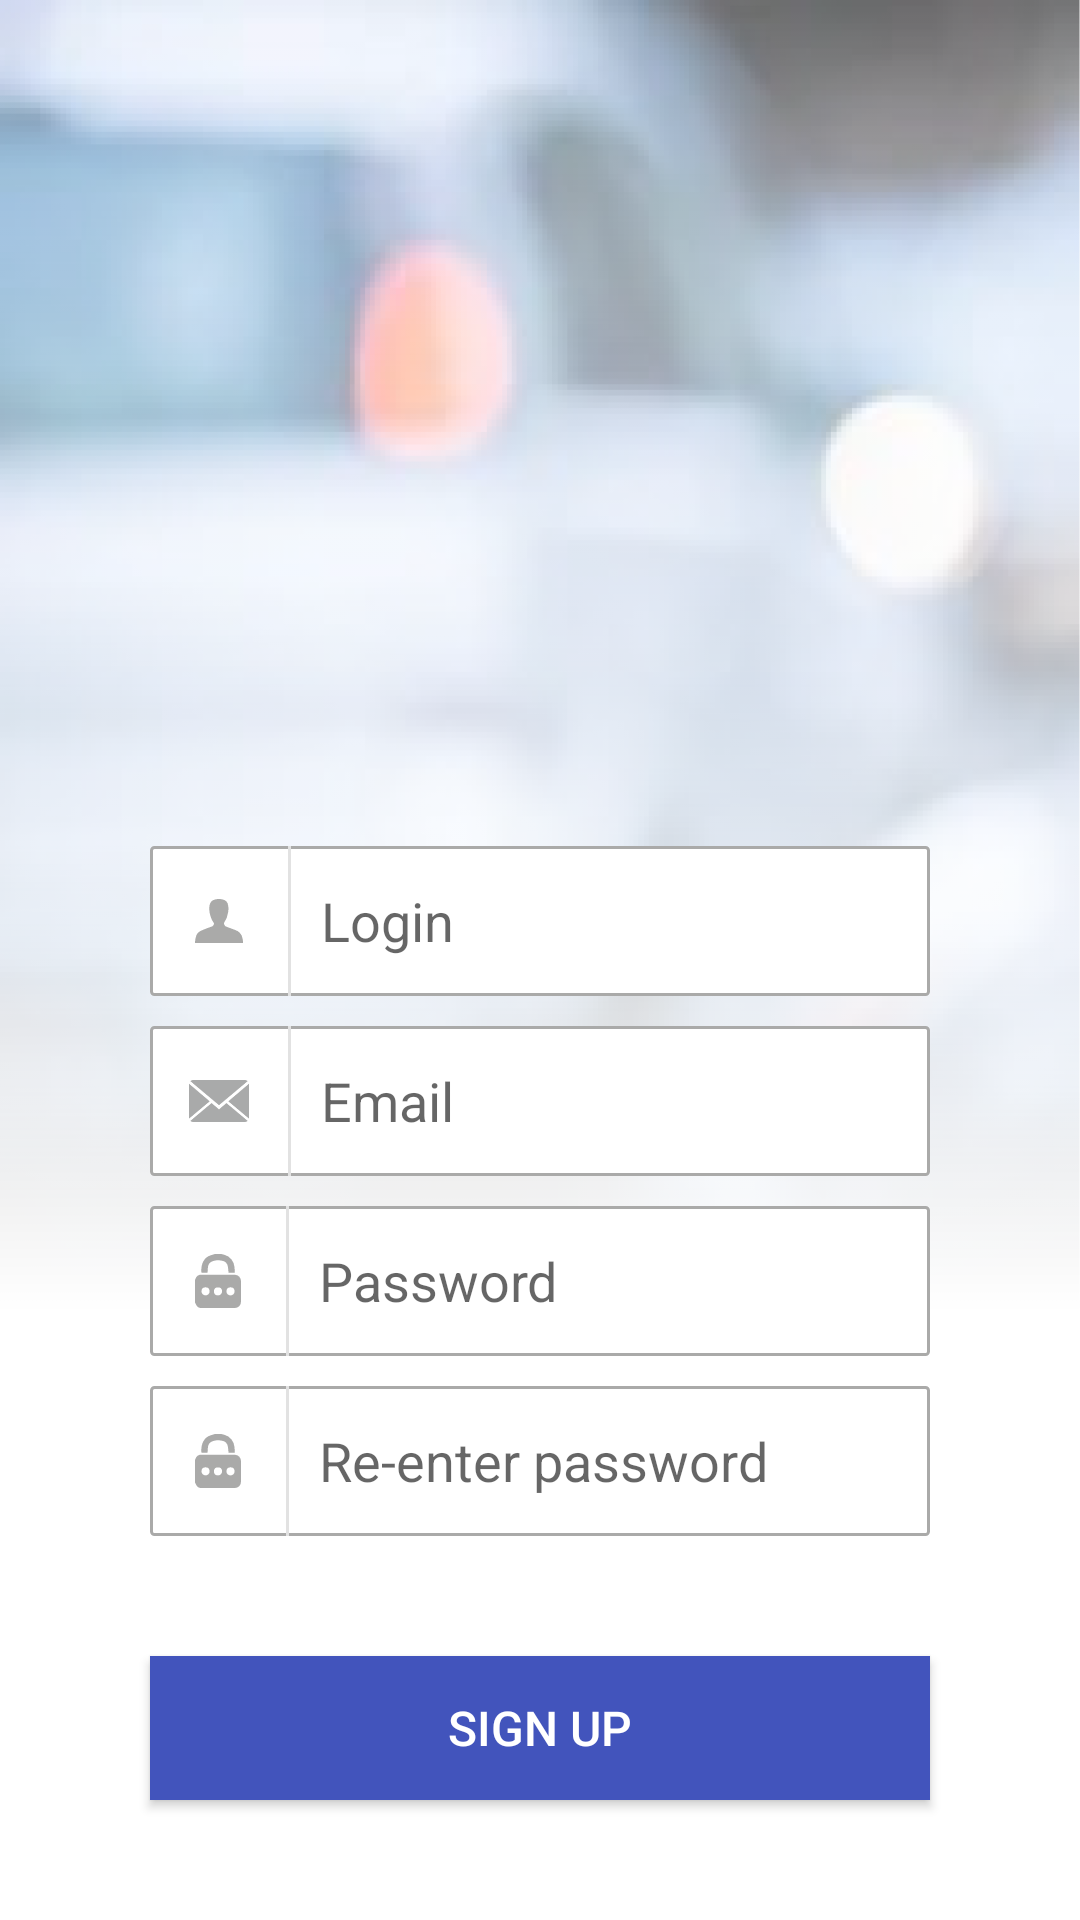

Named icons in this screenshot (1080px x 1920px) and their bounding boxes, bbox(x1, y1, x2, y2):
auth: bbox(195, 899, 243, 943)
